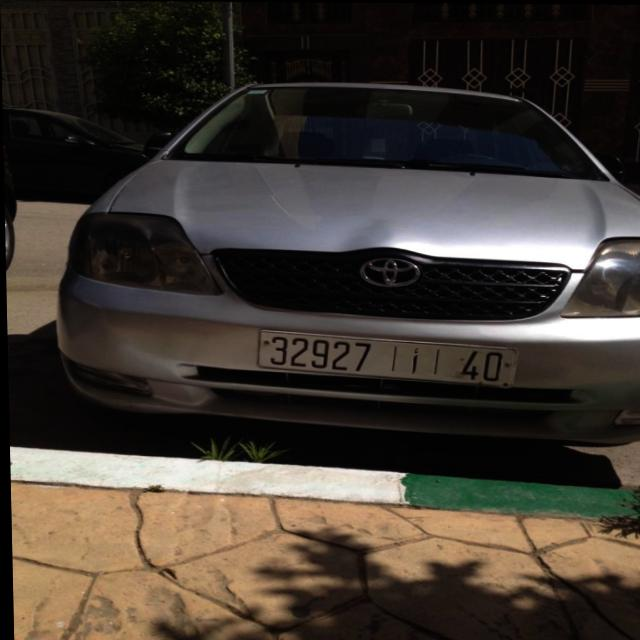License-Plate: (256, 330, 516, 387)
